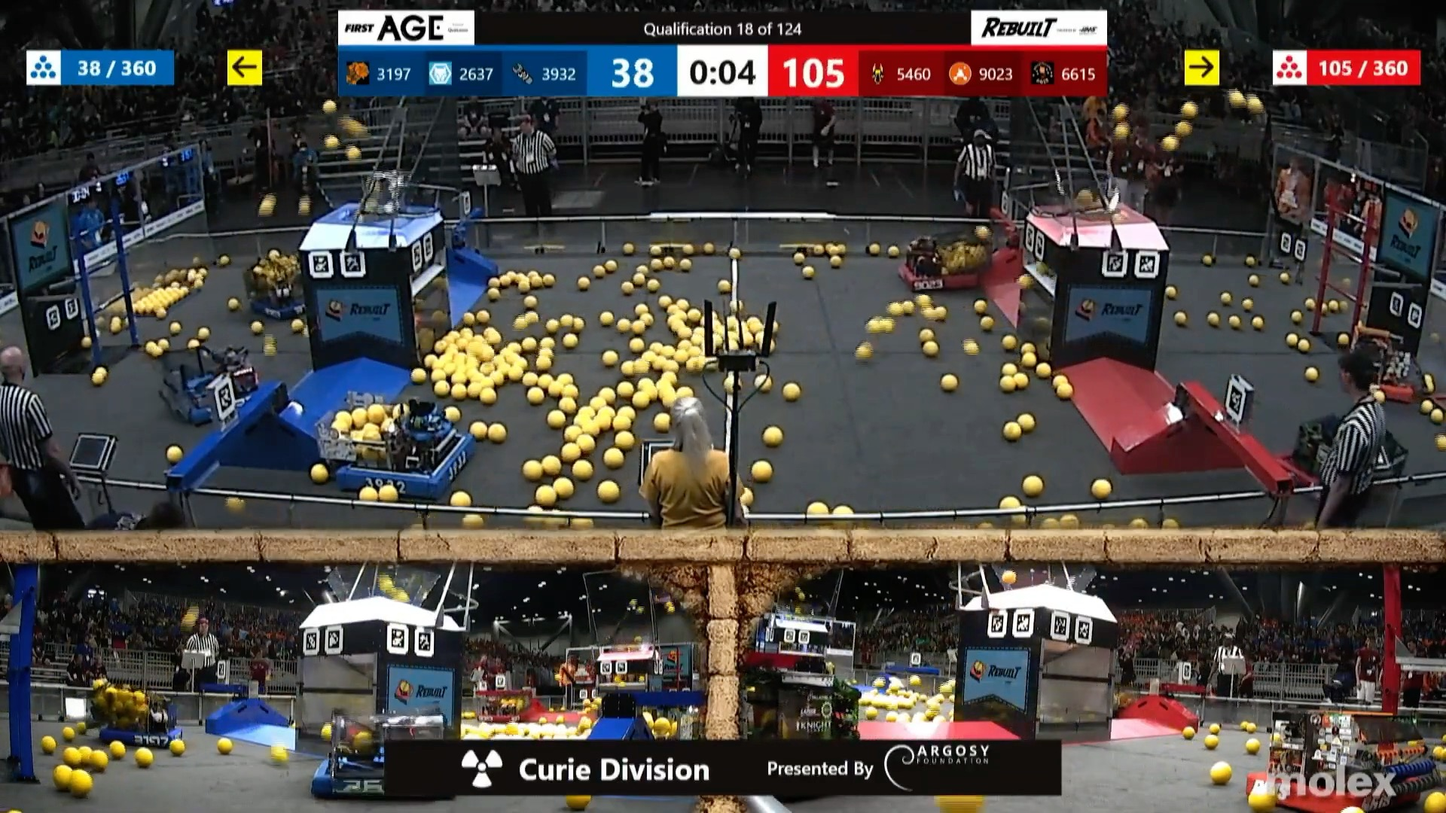bumpers: (1247, 757, 1429, 813), (334, 442, 479, 500), (157, 367, 289, 430), (892, 256, 999, 297), (309, 748, 388, 800), (98, 714, 194, 754), (243, 292, 328, 322), (1355, 374, 1425, 408)
